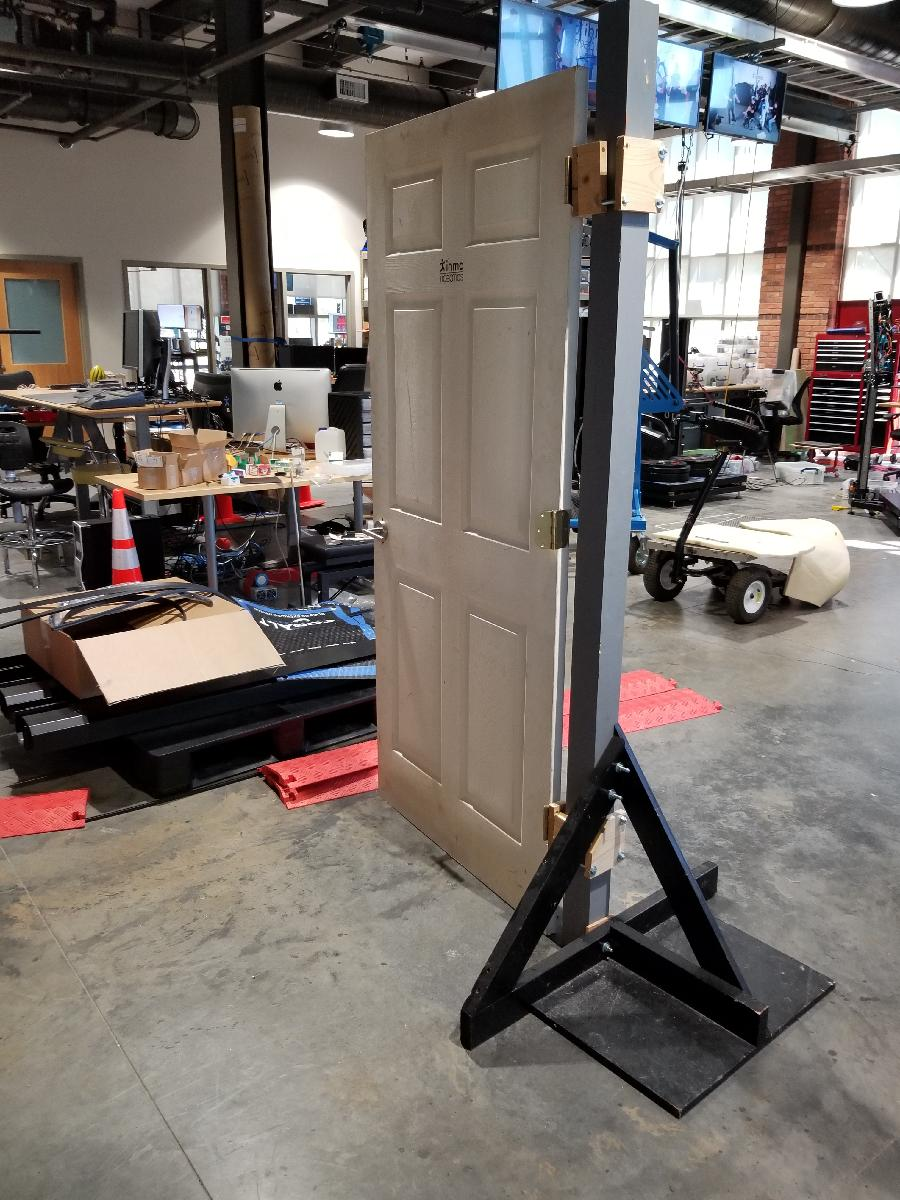door: (356, 62, 594, 942)
doorHandle: (358, 518, 399, 540)
